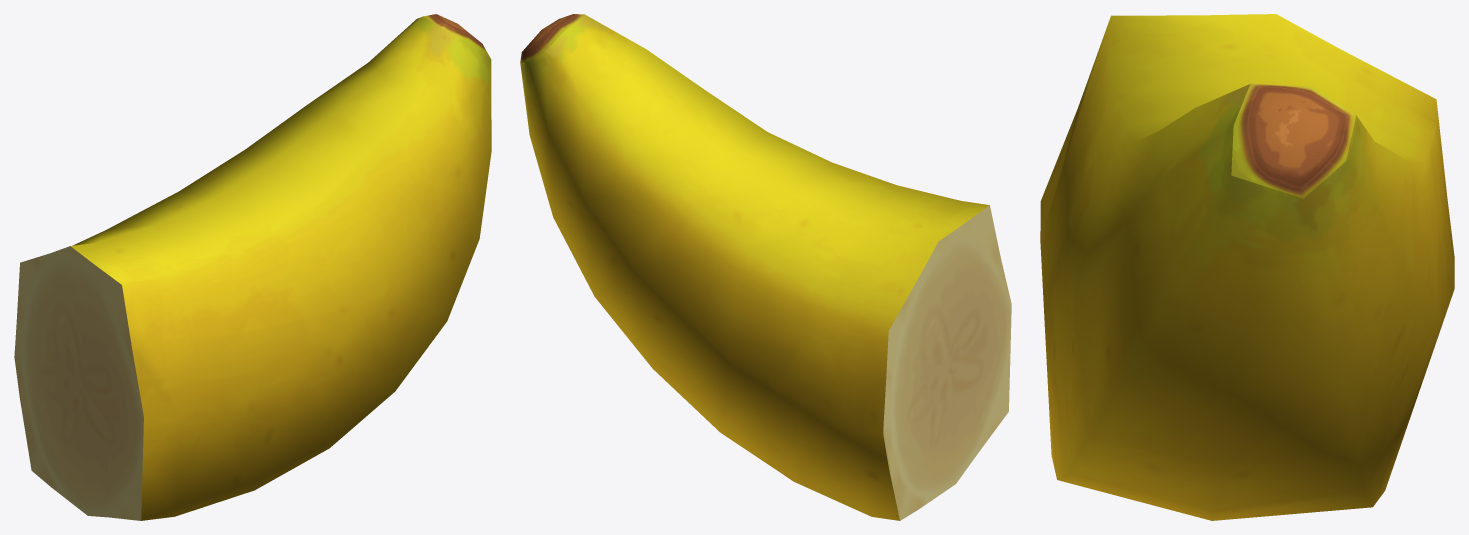
The model's file is SM_BananaCutB.fbx.
The picture shows the model from 3 angles, left to right: view 1: azimuth 30°, elevation 25°; view 2: azimuth 150°, elevation 25°; view 3: azimuth 270°, elevation 25°; orthographic projection. The views are drawn at different scales.
Visible parts, largest first — view 1: SM_Banana; view 2: SM_Banana; view 3: SM_Banana.
Boxes of the visible parts, bbox=[...] form: SM_Banana: bbox=[14, 14, 491, 520]; SM_Banana: bbox=[520, 14, 1011, 520]; SM_Banana: bbox=[1040, 14, 1454, 520].
Bounding box in the file's own units: 12.64 × 11.55 × 6.88.
1 material, 1 textured.
